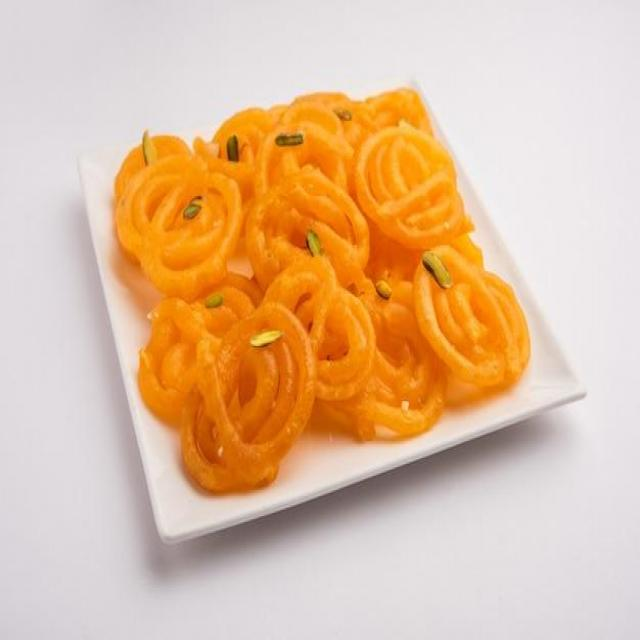jalebi: (124, 89, 516, 456)
